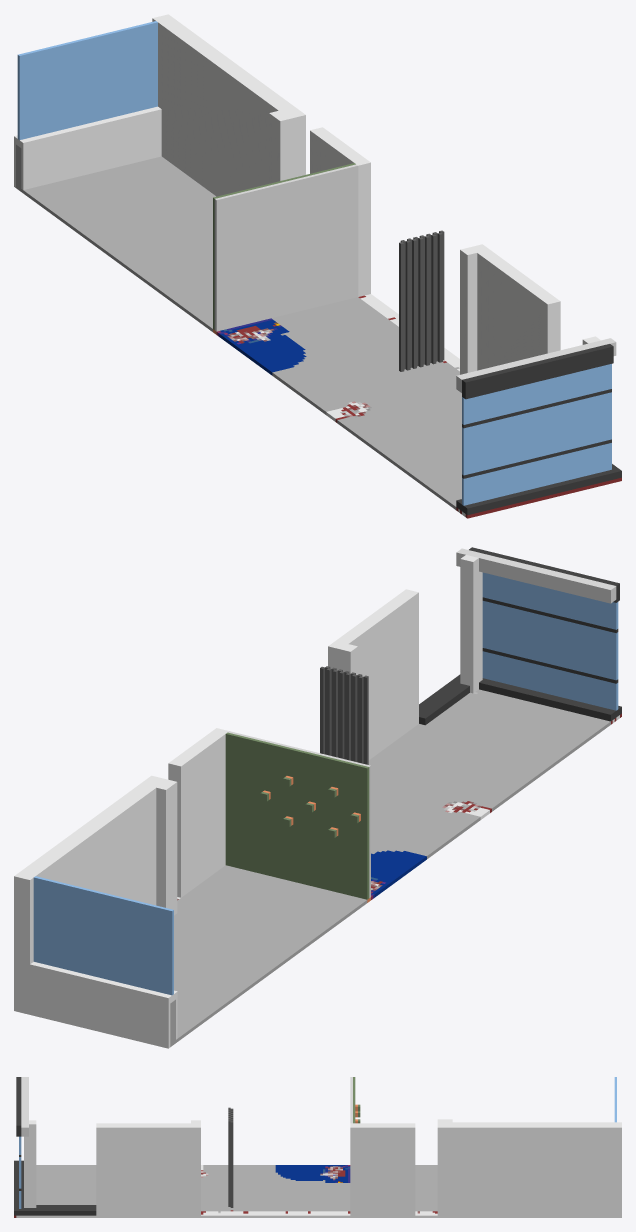
The model's file is dice_2og-100-floorplan_4.obj.
3 views of the same model, one above another, from view 1: azimuth 30°, elevation 25°; view 2: azimuth 150°, elevation 25°; view 3: azimuth 270°, elevation 25° (orthographic). The views are drawn at different scales.
Visible parts, largest first — view 1: floorplan_4; view 2: floorplan_4; view 3: floorplan_4.
Part boxes in pixels (left/top/right/bottom): floorplan_4: left=14, top=14, right=621, bottom=518; floorplan_4: left=14, top=547, right=621, bottom=1048; floorplan_4: left=14, top=1077, right=621, bottom=1217.
Size of the model in its own units: 4.8 by 4 by 24.4.
1 material, 1 textured.
